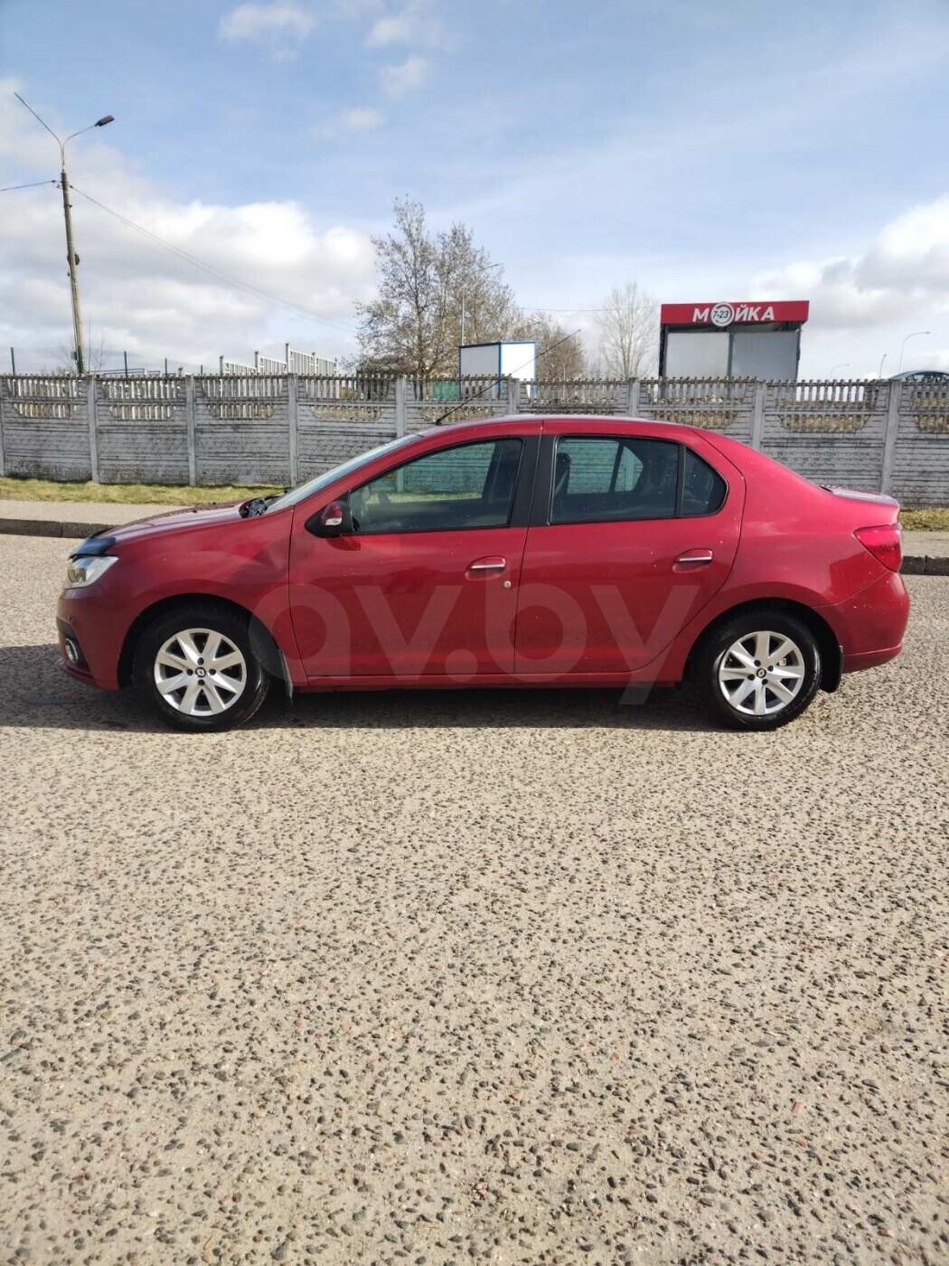Logan_2018: (49, 411, 913, 742)
